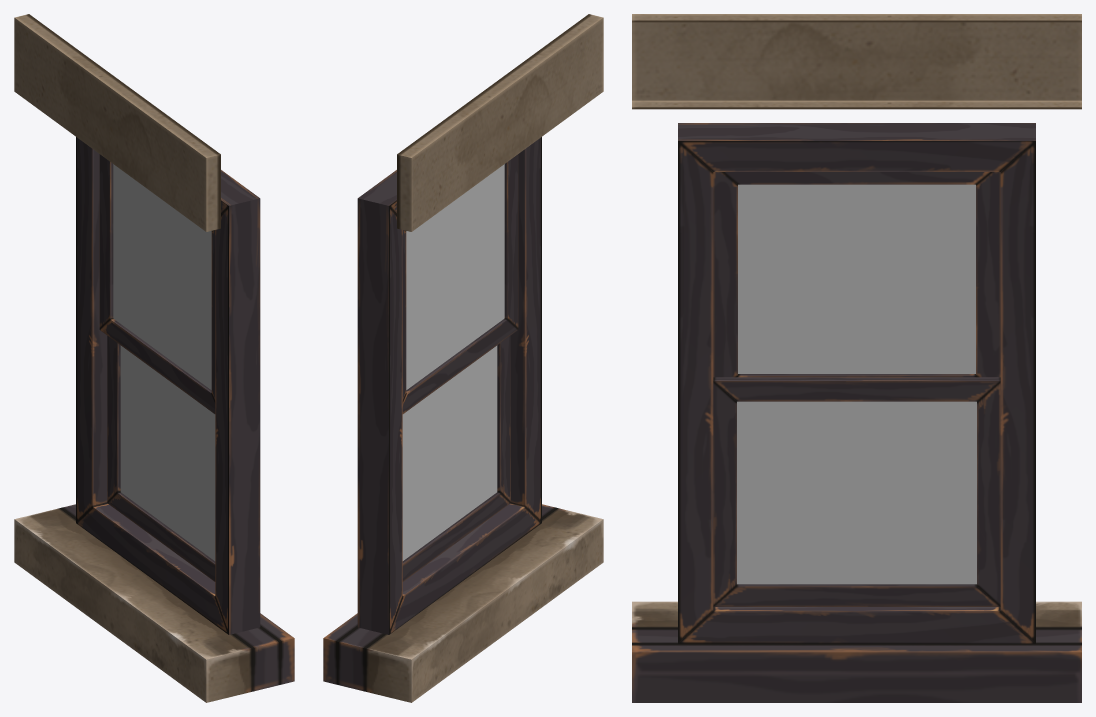
The model's file is window07.FBX.
The picture shows the model from 3 angles, left to right: view 1: azimuth 30°, elevation 25°; view 2: azimuth 150°, elevation 25°; view 3: azimuth 270°, elevation 25°; orthographic projection. The views are drawn at different scales.
Parts seen in each view (by area): view 1: window07_frame, window07_glass01, window07_glass02, window07_slide; view 2: window07_frame, window07_glass01, window07_glass02, window07_slide; view 3: window07_frame, window07_glass01, window07_glass02, window07_slide.
Boxes of the visible parts, x1,y1,x2,y2 form: window07_frame: (14, 14, 294, 702); window07_glass01: (113, 164, 211, 389); window07_glass02: (120, 345, 215, 560); window07_slide: (107, 336, 215, 581); window07_frame: (323, 14, 603, 702); window07_glass01: (406, 164, 504, 389); window07_glass02: (402, 345, 497, 560); window07_slide: (402, 336, 510, 581); window07_frame: (632, 14, 1081, 702); window07_glass01: (738, 184, 975, 373); window07_glass02: (737, 401, 976, 584); window07_slide: (713, 377, 1000, 606).
Bounding box in the file's own units: 30 × 177 × 113.
